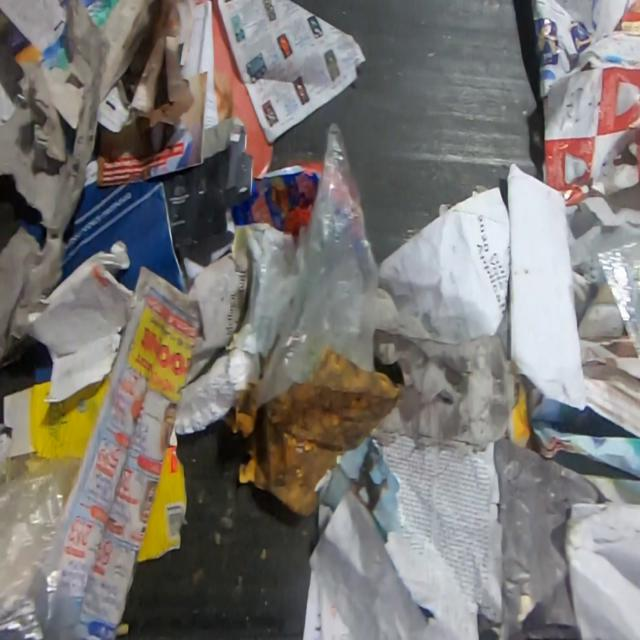cardboard: (223, 347, 401, 517), (0, 374, 112, 510), (136, 426, 190, 563)
soft_plastic: (256, 124, 379, 402), (497, 438, 587, 638), (0, 469, 65, 639), (598, 241, 640, 367)
